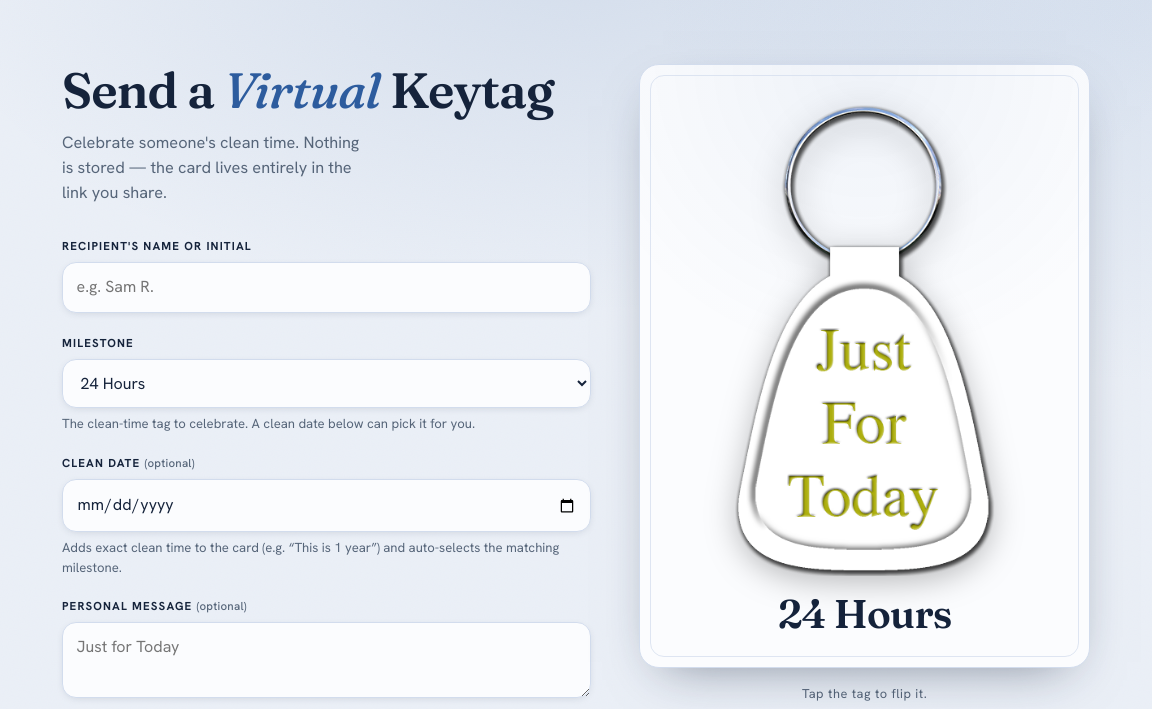
Test case: Builder › typing a recipient name shows it on the preview
The width and height of the screenshot is (1152, 709).
Type "Jo" into the field labelled "Recipient's name or initial" at (327, 288), box x1=62 y1=262 x2=591 y2=313
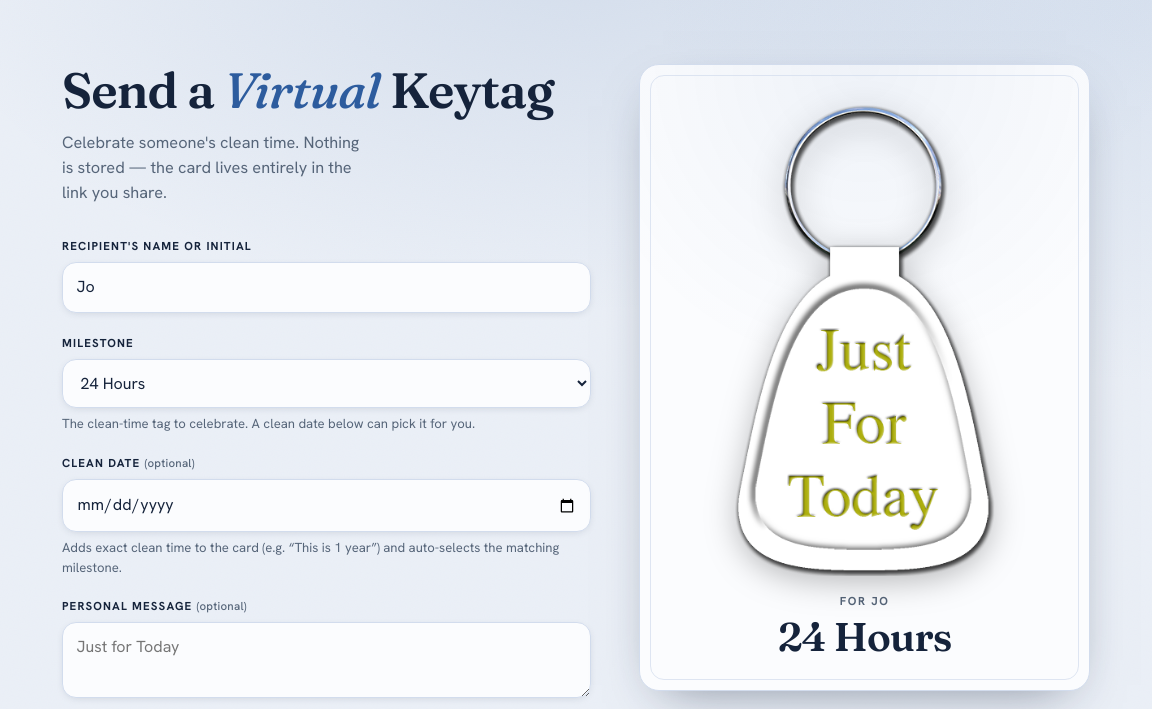
Result: the text "For Jo" is shown at x1=840 y1=593 x2=889 y2=608
